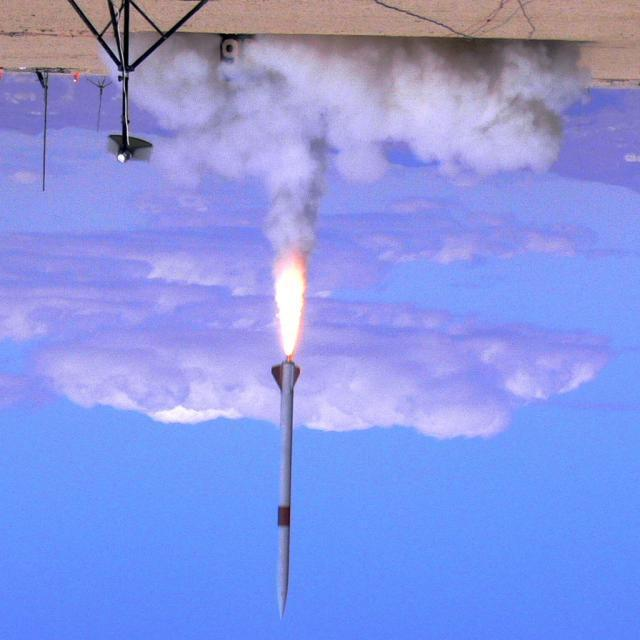missile: (269, 353, 305, 615)
